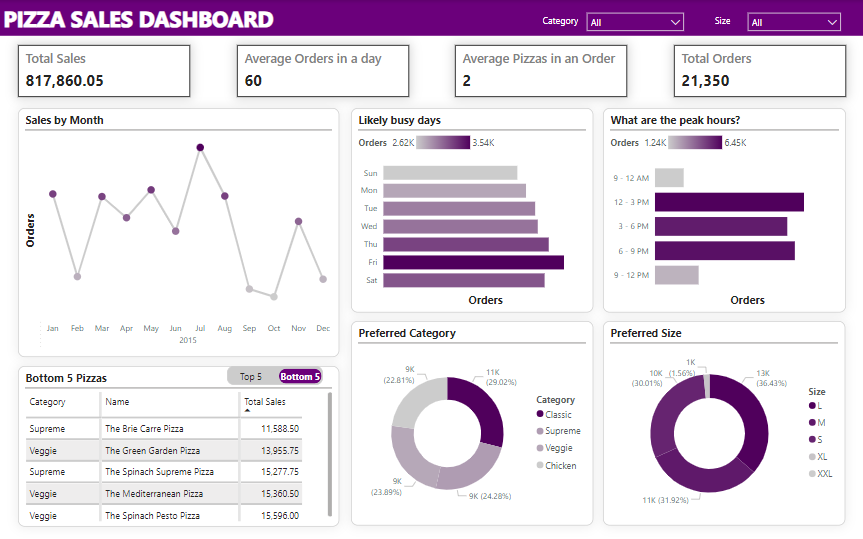

The page's visual inventory and layout, read from the dashboard file:
{"tool":"powerbi","page":{"name":"Page 1","canvas":[1280,800],"ordinal":0},"visuals":[{"type":"textbox","box":[0,0,1280,52.6],"z":0},{"type":"slicer","fields":{"Values":["Pizzas.Size"]},"box":[1098.4,8.9,157.7,43.2],"z":0,"group":"g2"},{"type":"slicer","fields":{"Values":["Pizza Types.Category"]},"box":[859.2,9.6,164.2,43],"z":0,"group":"g1"},{"type":"shape","box":[1043.3,15.3,55.1,30.4],"z":1000,"group":"g2"},{"type":"shape","box":[801.8,16,57.4,30.3],"z":1000,"group":"g1"},{"type":"barChart","title":"What are the peak hours?","fields":{"Category":["Orders.Time Slot"],"Y":["A_Measure.Orders"]},"box":[893.3,159.8,360,303.2],"z":1000},{"type":"barChart","title":"Likely busy days","fields":{"Category":["Date Table.Day"],"Y":["A_Measure.Orders"]},"box":[519.3,159.8,359.5,303.2],"z":2000},{"type":"lineChart","title":"Sales by Month","fields":{"Y":["A_Measure.Orders"],"Category":["Date Table.Year","Date Table.Month"]},"box":[26.7,160,475.6,368.9],"z":3000},{"type":"donutChart","title":"Preferred Category","fields":{"Y":["A_Measure.Orders"],"Category":["Pizza Types.Category"]},"box":[519.3,475.7,359.5,303.2],"z":4000},{"type":"donutChart","title":"Preferred Size","fields":{"Y":["A_Measure.Orders"],"Category":["Pizzas.Size"]},"box":[893.3,475.7,359.5,303.2],"z":5000},{"type":"tableEx","title":"Bottom 5 Pizzas","fields":{"Values":["Pizza Types.Category","Pizza Types.Name","A_Measure.Total Sales"]},"box":[26.8,541.8,476.3,238.1],"z":7000},{"type":"bookmarkNavigator","box":[336.3,542.2,142.2,28],"z":8000},{"type":"multiRowCard","title":"Total Sales","fields":{"Values":["A_Measure.Total Sales"]},"box":[27.1,66.9,255,76.5],"z":9000},{"type":"multiRowCard","title":"Average Orders in a day","fields":{"Values":["A_Measure.Avg orders in a day"]},"box":[350.7,66.9,255,76.5],"z":10000},{"type":"multiRowCard","title":"Average Pizzas in an Order","fields":{"Values":["A_Measure.Avg Pizzas in an order"]},"box":[674.3,66.9,255,76.5],"z":11000},{"type":"multiRowCard","title":"Total Orders","fields":{"Values":["A_Measure.Orders"]},"box":[997.9,66.9,255,76.5],"z":12000},{"type":"group","id":"g1","title":"Category","box":[801.8,9.6,221.6,43],"z":13000},{"type":"group","id":"g2","title":"Category","box":[1043.3,8.9,229.2,43.2],"z":14000}]}

Visuals, with their boxes in screenshot pixels (x1, y1, x2, y2), scaled from the page's 1280x800 canvas onto the 863x539 screenshot:
textbox: (0, 0, 862, 35)
slicer - Pizzas.Size: (741, 6, 847, 35)
slicer - Pizza Types.Category: (579, 6, 690, 35)
shape: (703, 10, 741, 31)
shape: (541, 11, 579, 31)
"What are the peak hours?" barChart: (602, 108, 845, 312)
"Likely busy days" barChart: (350, 108, 593, 312)
"Sales by Month" lineChart: (18, 108, 339, 356)
"Preferred Category" donutChart: (350, 321, 593, 525)
"Preferred Size" donutChart: (602, 321, 845, 525)
"Bottom 5 Pizzas" tableEx: (18, 365, 339, 525)
bookmarkNavigator: (227, 365, 323, 384)
"Total Sales" multiRowCard: (18, 45, 190, 97)
"Average Orders in a day" multiRowCard: (236, 45, 408, 97)
"Average Pizzas in an Order" multiRowCard: (455, 45, 627, 97)
"Total Orders" multiRowCard: (673, 45, 845, 97)
"Category" group: (541, 6, 690, 35)
"Category" group: (703, 6, 858, 35)
